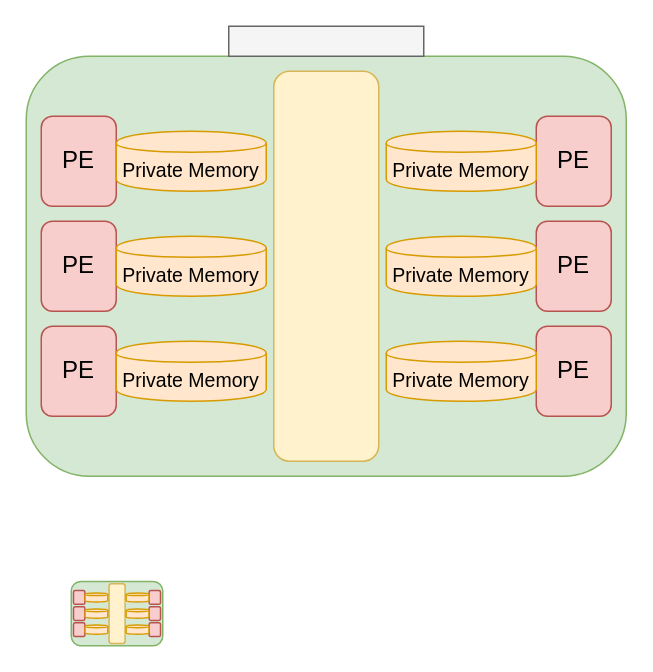
The diagram is 653 pixels wide and 672 high, and some of its shapes have lost their labels. The centre of each missing label's shape, as x and y in pixels:
Compute Unit: point (325, 40)
CU: point (116, 613)
Local Memory: point (325, 265)
